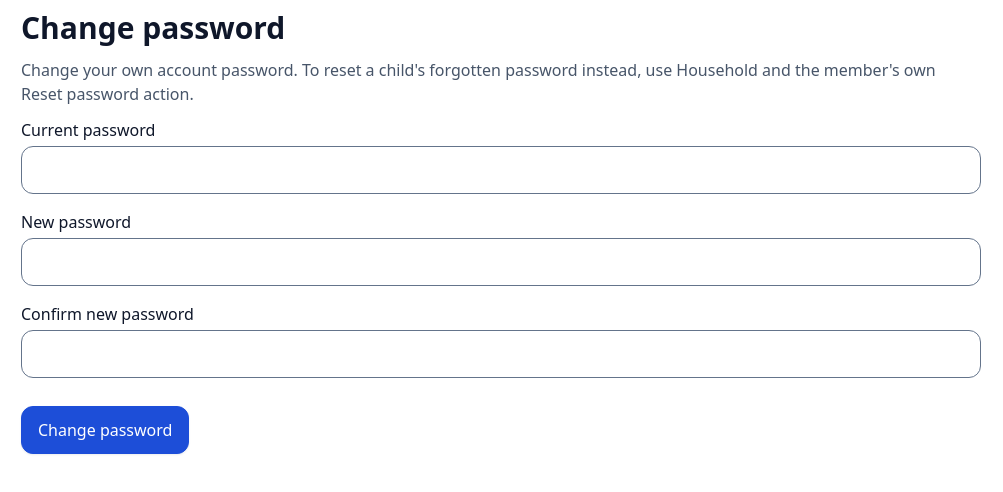
local validation › requires the confirmation and flags a mismatch, without sending a request
Step 1. Type "synthetic-only-current-password" into the password field labelled "Current password" → (501, 170), box [21,146,981,194]
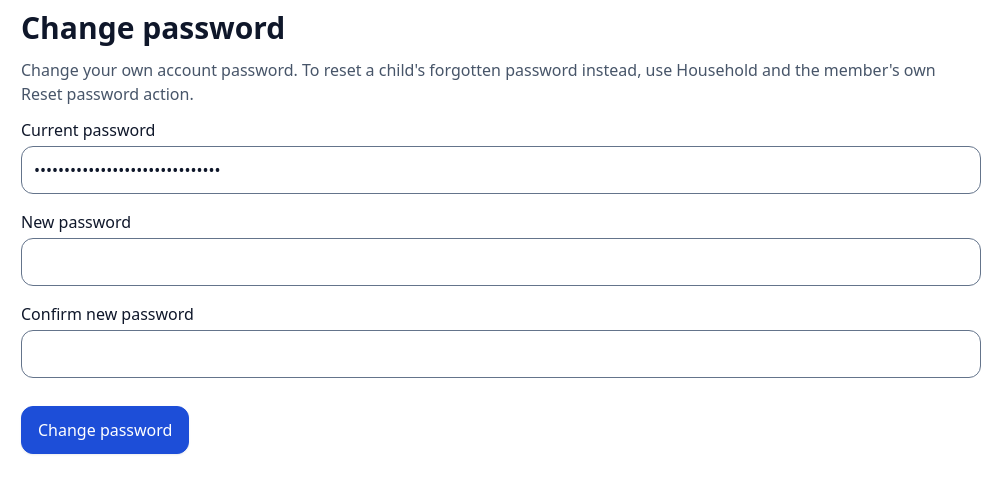
Step 2. Type "a genuinely unusual passphrase 42" into the password field labelled "New password" → (501, 262), box [21,238,981,286]
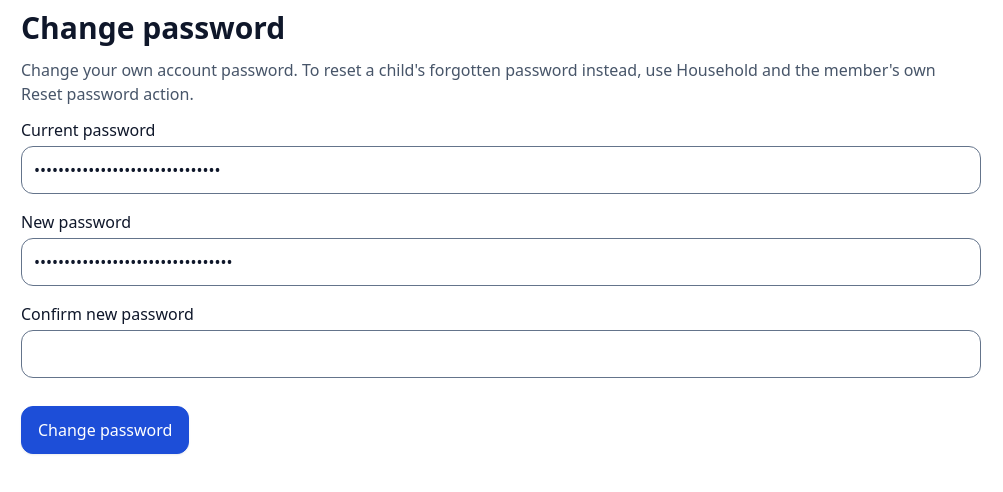
Step 3. Click the button "Change password" → click(105, 430), box [21,406,189,454]
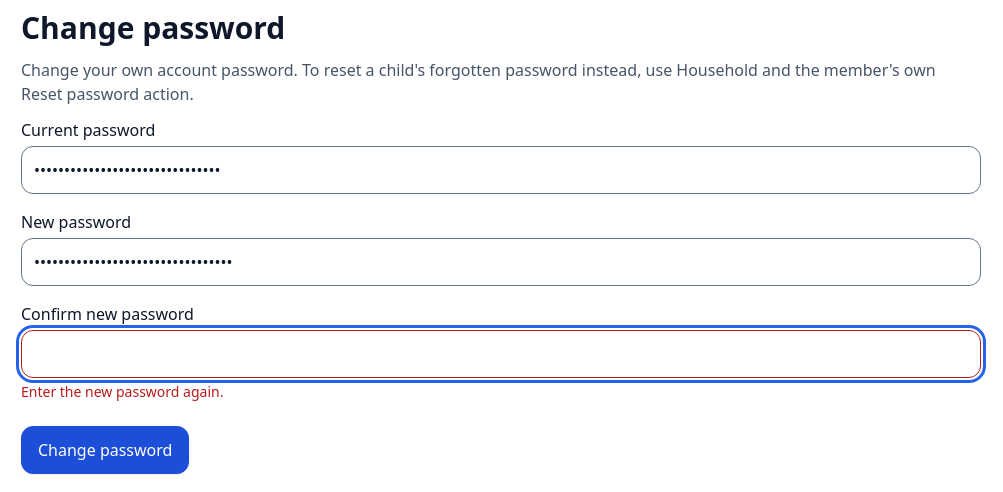
Result: the text "Enter the new password again." is shown at [21,382,223,401]
Step 4. Type "something else entirely" into the password field labelled "Confirm new password" → (501, 354), box [21,330,981,378]
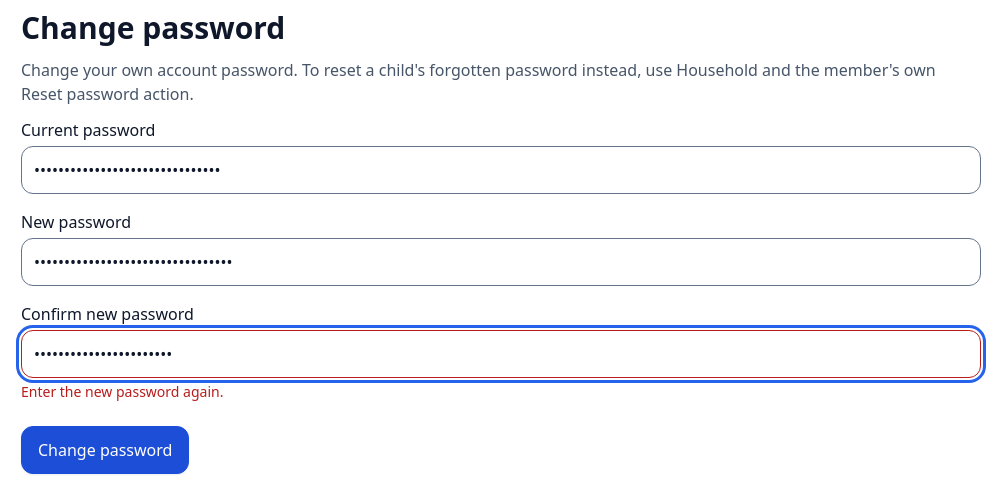
Step 5. Click the button "Change password" → click(105, 450), box [21,426,189,474]
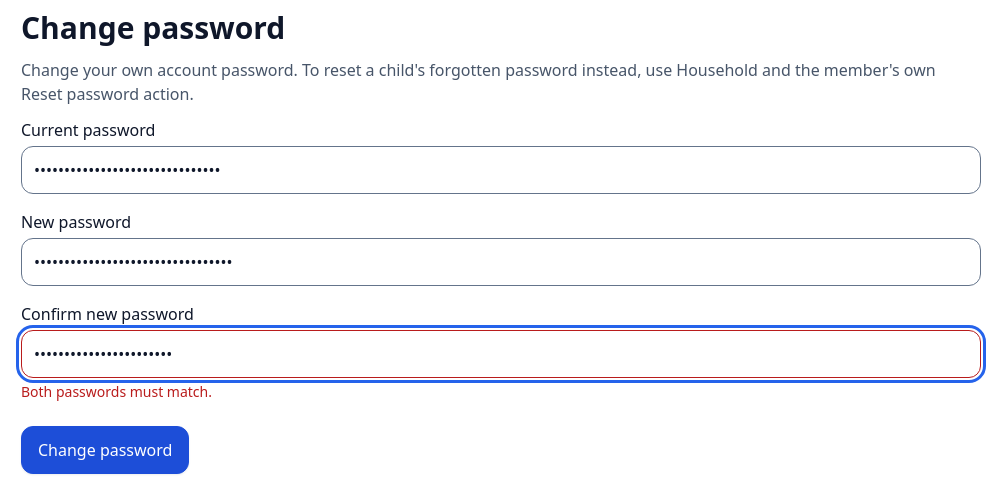
Result: the text "Both passwords must match." is shown at [21,382,212,401]
